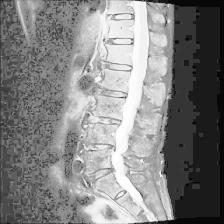disc: (106, 10, 137, 22), (104, 36, 136, 47)
hdisc: (102, 57, 134, 76), (83, 166, 121, 182), (100, 82, 130, 102), (85, 112, 122, 127), (80, 140, 118, 154)
